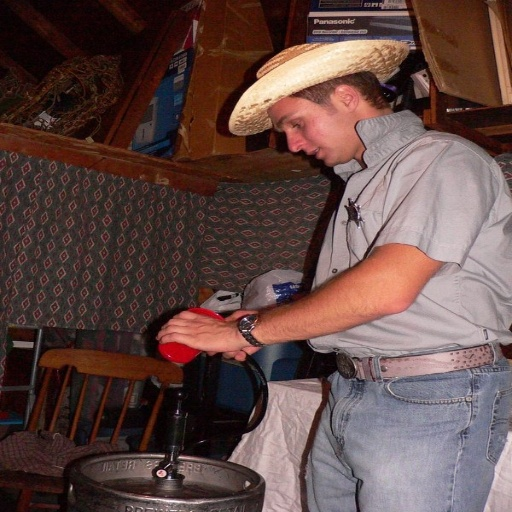hand: (204, 309, 267, 361)
